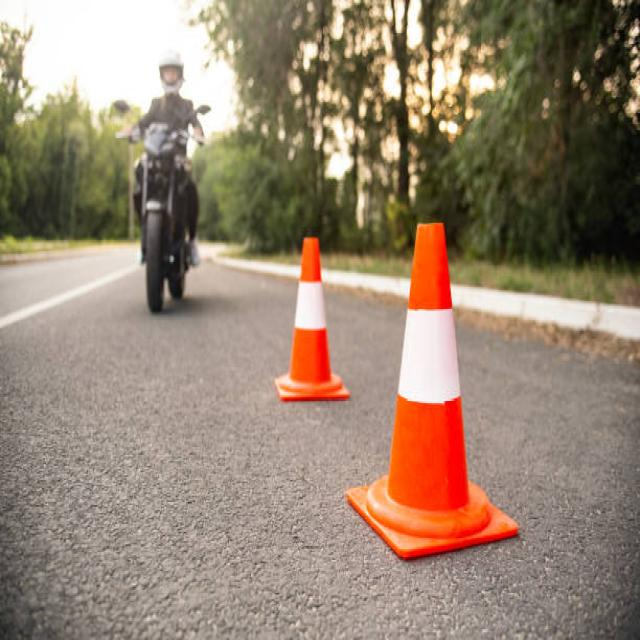Traffic Cone: (336, 179, 527, 577), (262, 209, 365, 425)
